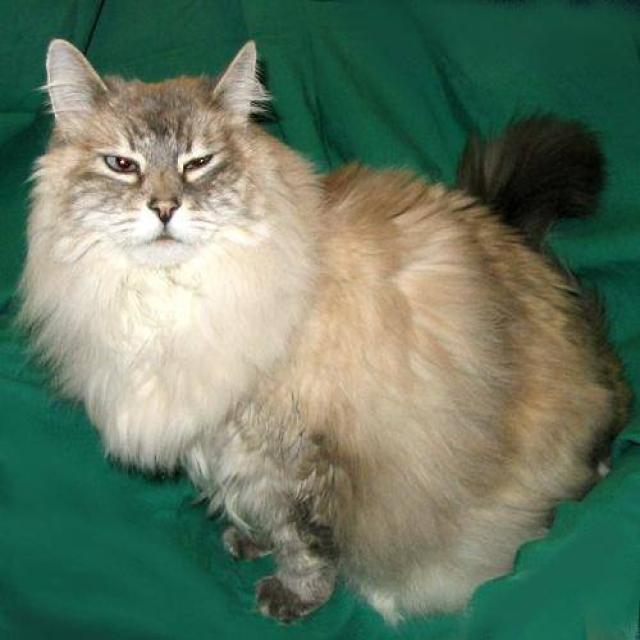cat: (12, 35, 634, 626)
